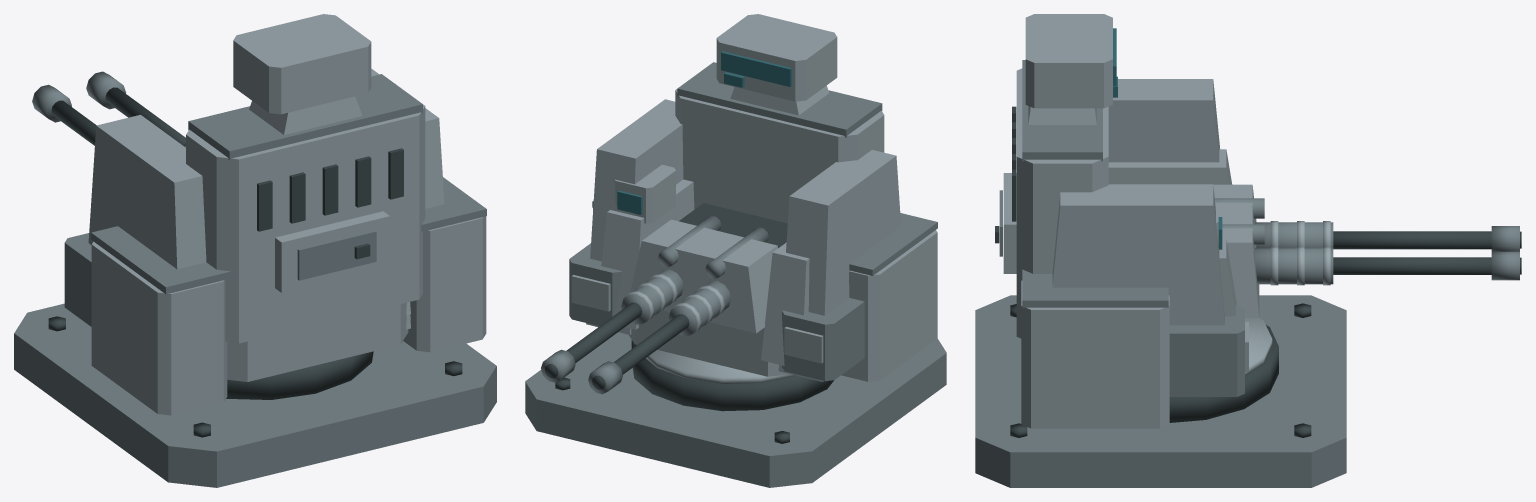
The model's file is MOD_Nobong_U2.fbx.
3 renders of one model, left to right at view 1: azimuth 30°, elevation 25°; view 2: azimuth 150°, elevation 25°; view 3: azimuth 270°, elevation 25°, orthographic. The views are drawn at different scales.
Parts seen in each view (by area): view 1: DeckAdapter, ArmouredRearEquipmentHouse, AmmunitionFeedBox, OuterArmourShoulder, IntegratedEOHead, AmmunitionFeedBox.001, TurretDriveHousing, RearRoof, RearControlPack, AmmoBoxLid, TraverseRing, ServiceHatch (+13 smaller); view 2: DeckAdapter, ArmouredRearEquipmentHouse, OuterArmourShoulder, AmmunitionFeedBox, FacetedMantlet, IntegratedEOHead, OuterArmourShoulder.001, TraverseRing, RearRoof, ReinforcedLowerFeed, TurretDriveHousing, AngularShieldCheek.001 (+19 smaller); view 3: DeckAdapter, OuterArmourShoulder.001, AmmunitionFeedBox.001, OuterArmourShoulder, IntegratedEOHead, ArmouredRearEquipmentHouse, ReinforcedLowerFeed.001, FacetedMantlet, AmmoBoxLid.001, RearRoof, GunTube, AngularShieldCheek (+10 smaller).
Part boxes in pixels (<box>): DeckAdapter: <box>14,303,496,487</box>; ArmouredRearEquipmentHouse: <box>186,104,425,343</box>; AmmunitionFeedBox: <box>91,241,227,415</box>; OuterArmourShoulder: <box>88,114,206,269</box>; IntegratedEOHead: <box>233,14,371,114</box>; AmmunitionFeedBox.001: <box>403,216,486,352</box>; TurretDriveHousing: <box>227,302,408,381</box>; RearRoof: <box>188,74,422,160</box>; RearControlPack: <box>275,211,389,292</box>; AmmoBoxLid: <box>91,226,231,294</box>; TraverseRing: <box>226,351,373,399</box>; ServiceHatch: <box>297,230,376,280</box>; DeckAdapter: <box>525,332,946,487</box>; ArmouredRearEquipmentHouse: <box>675,89,884,223</box>; OuterArmourShoulder: <box>778,150,900,381</box>; AmmunitionFeedBox: <box>841,230,937,381</box>; FacetedMantlet: <box>630,219,777,333</box>; IntegratedEOHead: <box>716,14,837,101</box>; OuterArmourShoulder.001: <box>586,99,683,334</box>; TraverseRing: <box>631,340,833,411</box>; RearRoof: <box>677,62,882,137</box>; ReinforcedLowerFeed: <box>782,298,864,381</box>; TurretDriveHousing: <box>629,310,789,376</box>; AngularShieldCheek.001: <box>601,179,694,329</box>; DeckAdapter: <box>975,295,1346,487</box>; OuterArmourShoulder.001: <box>1052,184,1224,325</box>; AmmunitionFeedBox.001: <box>1021,280,1169,428</box>; OuterArmourShoulder: <box>1108,79,1219,162</box>; IntegratedEOHead: <box>1025,14,1112,108</box>; ArmouredRearEquipmentHouse: <box>1016,68,1108,338</box>; ReinforcedLowerFeed.001: <box>1169,305,1244,396</box>; FacetedMantlet: <box>1213,184,1259,317</box>; AmmoBoxLid.001: <box>1022,269,1168,307</box>; RearRoof: <box>1022,60,1102,161</box>; GunTube: <box>1333,231,1491,249</box>; AngularShieldCheek: <box>1108,149,1232,184</box>.
Bounding box in the file's own units: 170 × 188 × 250.
